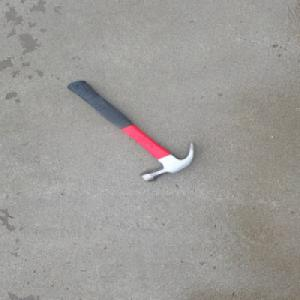Hammer: (61, 79, 193, 182)
